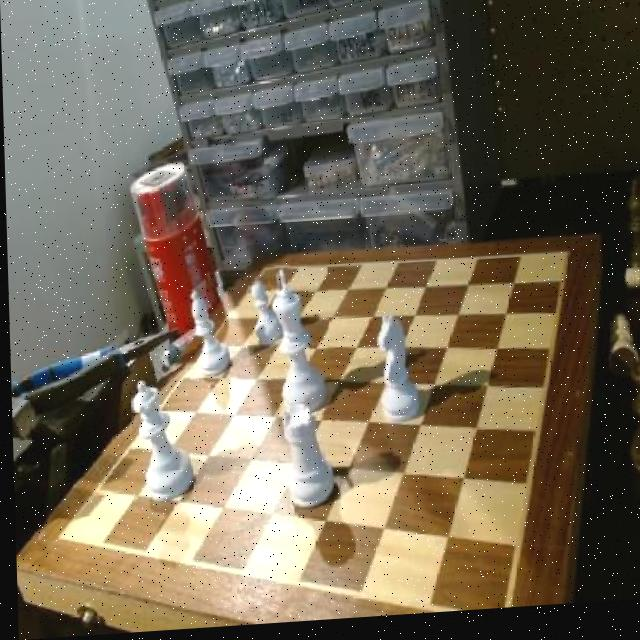black-rook: (182, 289, 232, 389)
white-bishop: (265, 269, 327, 422)
white-king: (369, 309, 421, 431)
white-knight: (245, 280, 281, 356)
white-pawn: (127, 373, 192, 509)
white-queen: (270, 400, 332, 522)
